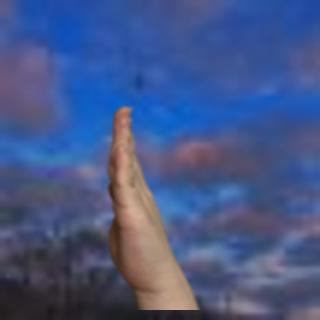RIGHT: (100, 102, 183, 288)
